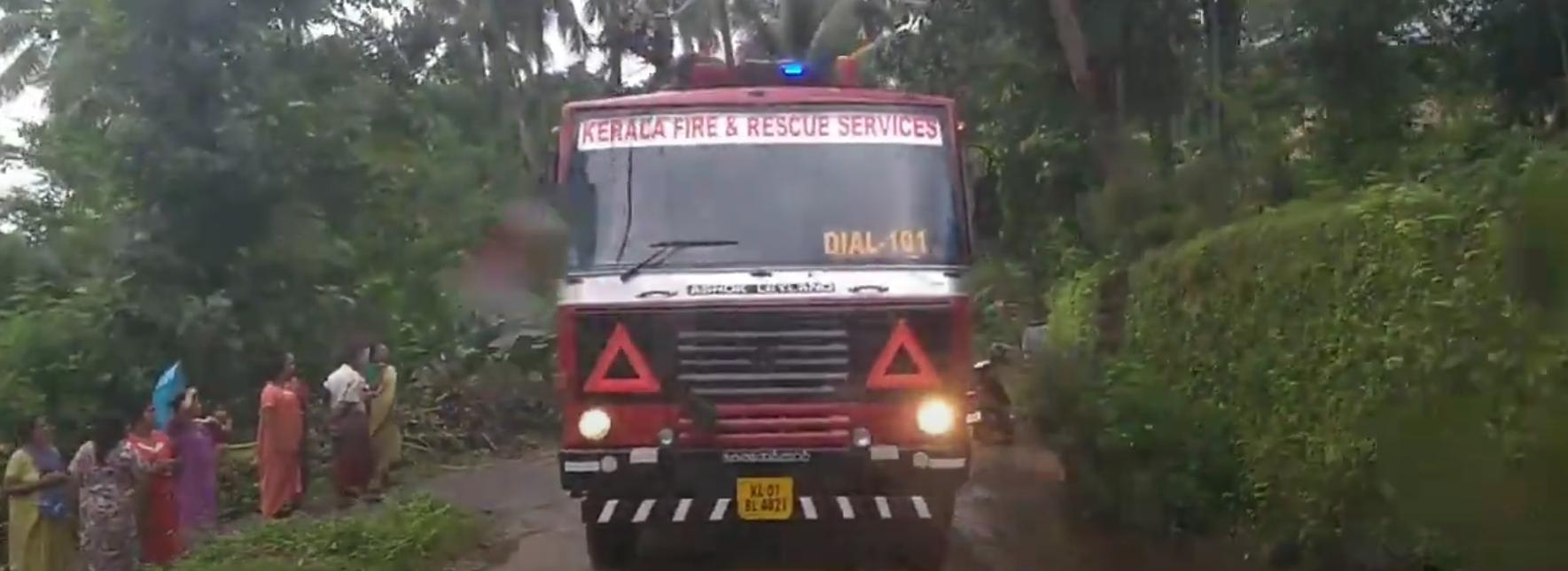Fire-engine: (550, 90, 984, 571), (579, 111, 944, 150)
